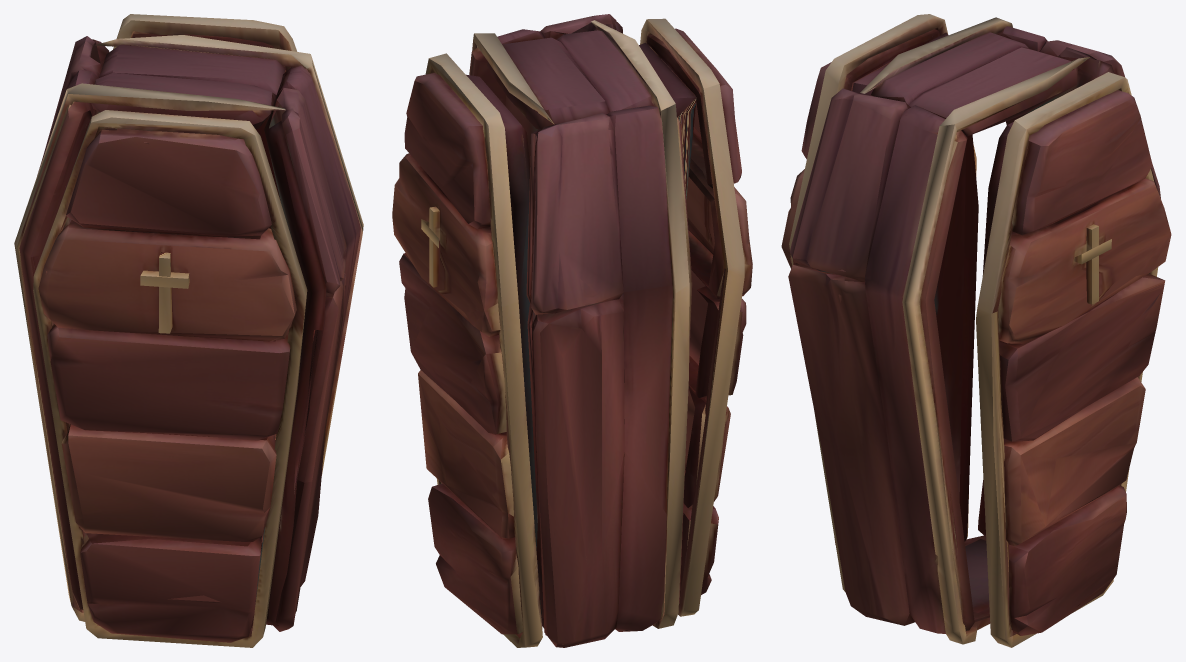
The model's file is S7_Coffin_LOD2.fbx.
The picture shows the model from 3 angles, left to right: view 1: azimuth 30°, elevation 25°; view 2: azimuth 150°, elevation 25°; view 3: azimuth 270°, elevation 25°; orthographic projection.
Parts seen in each view (by area): view 1: S7_Coffin_LOD2; view 2: S7_Coffin_LOD2; view 3: S7_Coffin_LOD2.
Part boxes in pixels (x1,y1,x2,y2): S7_Coffin_LOD2: [14, 14, 363, 647]; S7_Coffin_LOD2: [392, 14, 752, 647]; S7_Coffin_LOD2: [781, 14, 1171, 647].
Size of the model in its own units: 1.09 by 1.7 by 1.12.
